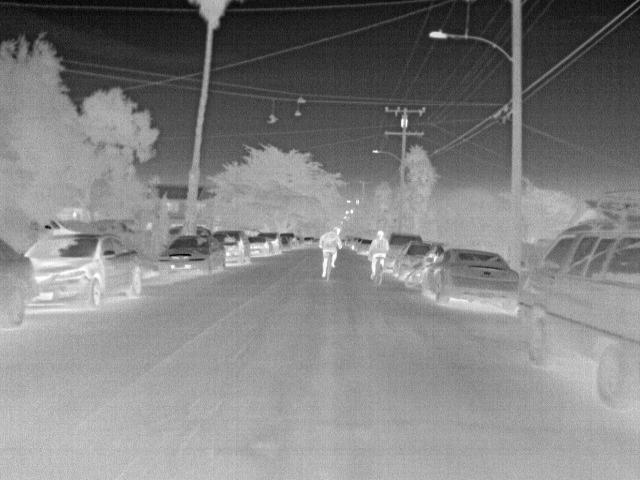car: (521, 220, 639, 411), (16, 233, 144, 312), (418, 249, 521, 315), (0, 237, 40, 329), (156, 238, 226, 280), (394, 241, 438, 281), (210, 227, 250, 268), (383, 230, 422, 272), (258, 233, 281, 254), (244, 240, 268, 258), (356, 239, 373, 256), (286, 232, 301, 250), (276, 236, 290, 252)
person: (317, 223, 340, 279), (366, 228, 390, 276)
